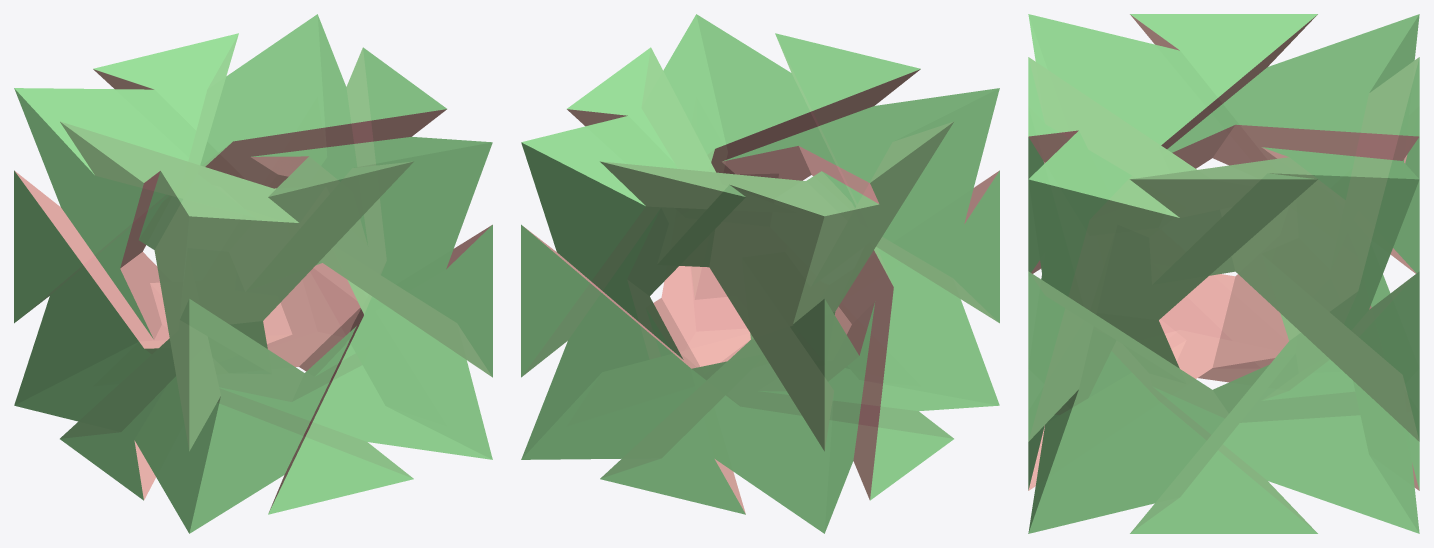
Rendered from RegularMap_B.obj.
3 renders of one model, left to right at view 1: azimuth 30°, elevation 25°; view 2: azimuth 150°, elevation 25°; view 3: azimuth 270°, elevation 25°, orthographic. The views are drawn at different scales.
Bounding box in the file's own units: 2.04 × 2.04 × 2.04.
